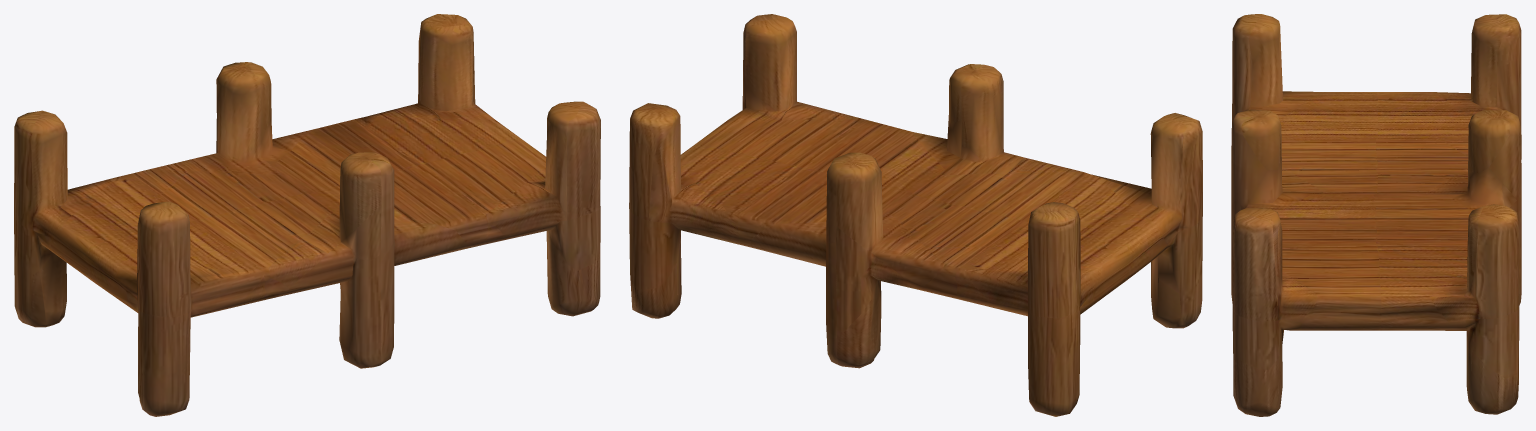
The model's file is dock.glb.
3 renders of one model, left to right at view 1: azimuth 30°, elevation 25°; view 2: azimuth 150°, elevation 25°; view 3: azimuth 270°, elevation 25°, orthographic. The views are drawn at different scales.
Parts seen in each view (by area): view 1: tripo_node_0c22632c-7f63-4434-980c-397c784e4116; view 2: tripo_node_0c22632c-7f63-4434-980c-397c784e4116; view 3: tripo_node_0c22632c-7f63-4434-980c-397c784e4116.
Boxes of the visible parts, <box> form: tripo_node_0c22632c-7f63-4434-980c-397c784e4116: <box>14,14,600,416</box>; tripo_node_0c22632c-7f63-4434-980c-397c784e4116: <box>629,14,1202,416</box>; tripo_node_0c22632c-7f63-4434-980c-397c784e4116: <box>1231,14,1521,416</box>.
Size of the model in its own units: 0.947 by 0.4074 by 0.5411.
Materials: 1 (1 with a texture image).
